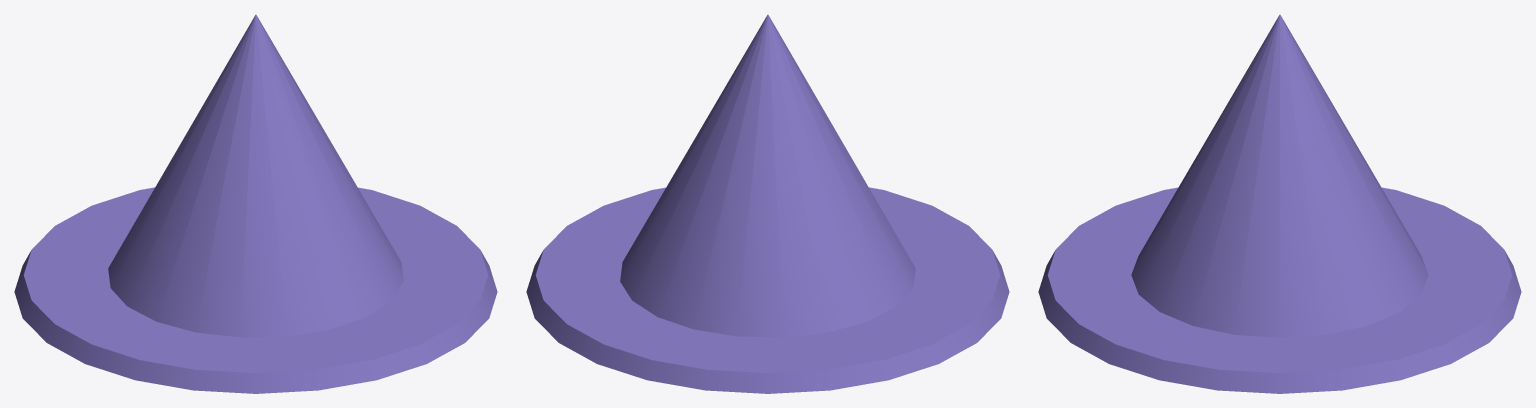
Rendered from wizard.glb.
3 views of the same model, side by side, from view 1: azimuth 30°, elevation 25°; view 2: azimuth 150°, elevation 25°; view 3: azimuth 270°, elevation 25° (orthographic).
Visible parts, largest first — view 1: wizard; view 2: wizard; view 3: wizard.
Boxes of the visible parts, bbox=[...] form: wizard: bbox=[14, 14, 497, 393]; wizard: bbox=[526, 14, 1009, 393]; wizard: bbox=[1038, 14, 1521, 393].
Size of the model in its own units: 1.04 by 0.66 by 1.04.
